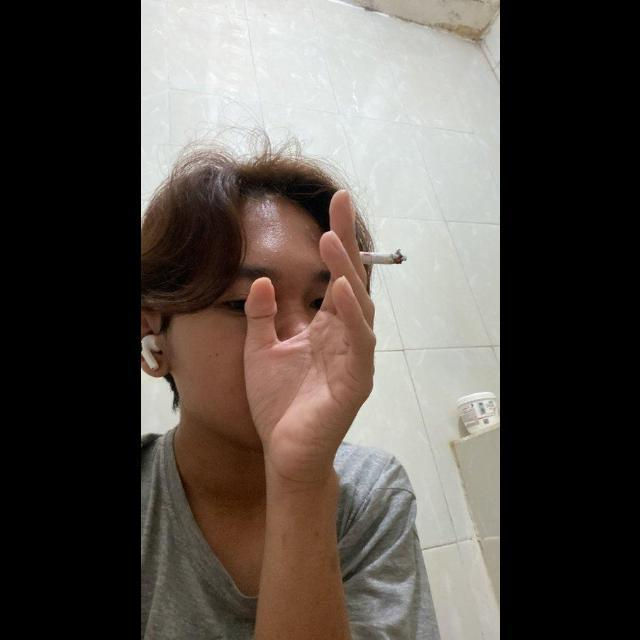rokok: (346, 243, 412, 270)
